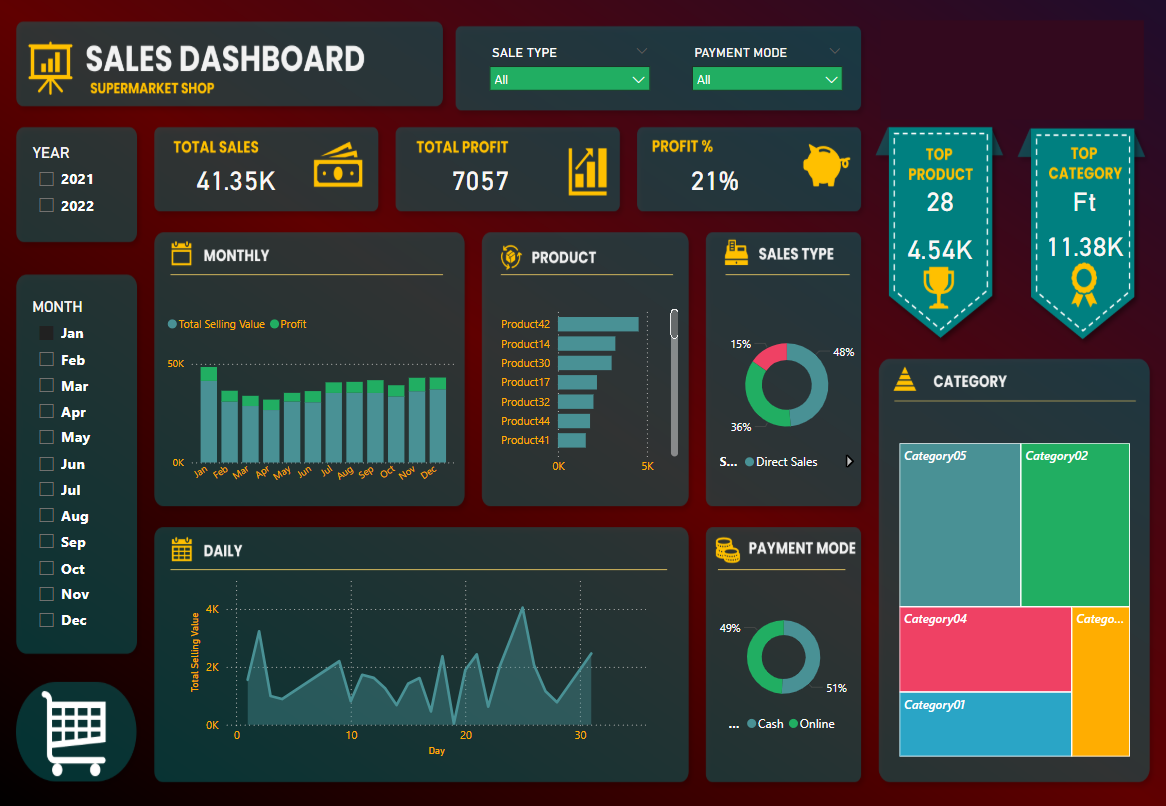

The page's visual inventory and layout, read from the dashboard file:
{"tool":"powerbi","page":{"name":"Sales Report","canvas":[1298,900],"ordinal":0},"visuals":[{"type":"slicer","title":"YEAR","fields":{"Values":["InputData.Year"]},"box":[31.9,161.2,111.6,93.9],"z":0},{"type":"slicer","title":"MONTH","fields":{"Values":["InputData.Month Name"]},"box":[31.9,331.3,111.6,377.4],"z":1000},{"type":"slicer","fields":{"Values":["InputData.SALE TYPE"]},"box":[535,46.1,198.4,67.3],"z":2000},{"type":"slicer","fields":{"Values":["InputData.PAYMENT MODE"]},"box":[760,46.1,187.8,67.3],"z":3000},{"type":"card","fields":{"Values":["Sum(InputData.Total Selling Value)"]},"box":[178.9,161.2,168.3,78],"z":4000},{"type":"card","fields":{"Values":["InputData.Profit"]},"box":[451.8,161.2,166.5,78],"z":5000},{"type":"card","fields":{"Values":["InputData.Profit %"]},"box":[710.4,161.2,168.3,78],"z":6000},{"type":"card","fields":{"Values":["Sum(InputData.Total Selling Value)"]},"box":[995.7,255.1,99.2,42.5],"z":7000},{"type":"card","fields":{"Values":["Sum(InputData.Total Selling Value)"]},"box":[1151.6,248,109.8,49.6],"z":8000},{"type":"card","fields":{"Values":["Sum(InputData.QUANTITY)"]},"box":[995.7,200.2,99.2,47.8],"z":9000},{"type":"card","fields":{"Values":["Min(InputData.MasterData.UOM)"]},"box":[1151.6,200.2,109.8,47.8],"z":10000},{"type":"columnChart","title":"Total Selling Value and Profit by Month Name","fields":{"Category":["InputData.Month Name"],"Y":["Sum(InputData.Total Selling Value)","InputData.Profit"]},"box":[182.5,341.9,329.5,205.5],"z":11000},{"type":"clusteredBarChart","fields":{"Y":["Sum(InputData.Total Selling Value)"],"Category":["InputData.MasterData.PRODUCT"]},"box":[547.4,331.3,212.6,205.5],"z":12000},{"type":"areaChart","fields":{"Y":["Sum(InputData.Total Selling Value)"],"Category":["InputData.Day"]},"box":[207.3,632.5,517.3,214.4],"z":13000},{"type":"donutChart","fields":{"Category":["InputData.SALE TYPE"],"Y":["Sum(InputData.Total Selling Value)"]},"box":[795.5,354.3,159.4,178.9],"z":14000},{"type":"donutChart","fields":{"Category":["InputData.PAYMENT MODE"],"Y":["Sum(InputData.Total Selling Value)"]},"box":[795.5,667.9,152.4,155.9],"z":15000},{"type":"treemap","fields":{"Group":["InputData.MasterData.CATEGORY"],"Values":["Sum(InputData.Total Selling Value)"]},"box":[995.7,489,265.7,357.9],"z":16000}]}

Visuals, with their boxes in screenshot pixels (x1, y1, x2, y2), scaled from the page's 1298x900 canvas onto the 1166x806 screenshot:
"YEAR" slicer: l=29, t=144, r=129, b=228
"MONTH" slicer: l=29, t=297, r=129, b=635
slicer - InputData.SALE TYPE: l=481, t=41, r=659, b=102
slicer - InputData.PAYMENT MODE: l=683, t=41, r=851, b=102
card - Sum(InputData.Total Selling Value): l=161, t=144, r=312, b=214
card - InputData.Profit: l=406, t=144, r=555, b=214
card - InputData.Profit %: l=638, t=144, r=789, b=214
card - Sum(InputData.Total Selling Value): l=894, t=228, r=984, b=267
card - Sum(InputData.Total Selling Value): l=1034, t=222, r=1133, b=267
card - Sum(InputData.QUANTITY): l=894, t=179, r=984, b=222
card - Min(InputData.MasterData.UOM): l=1034, t=179, r=1133, b=222
"Total Selling Value and Profit by Month Name" columnChart: l=164, t=306, r=460, b=490
clusteredBarChart - Sum(InputData.Total Selling Value) x InputData.MasterData.PRODUCT: l=492, t=297, r=683, b=481
areaChart - Sum(InputData.Total Selling Value) x InputData.Day: l=186, t=566, r=651, b=758
donutChart - InputData.SALE TYPE x Sum(InputData.Total Selling Value): l=715, t=317, r=858, b=478
donutChart - InputData.PAYMENT MODE x Sum(InputData.Total Selling Value): l=715, t=598, r=852, b=738
treemap - InputData.MasterData.CATEGORY x Sum(InputData.Total Selling Value): l=894, t=438, r=1133, b=758
